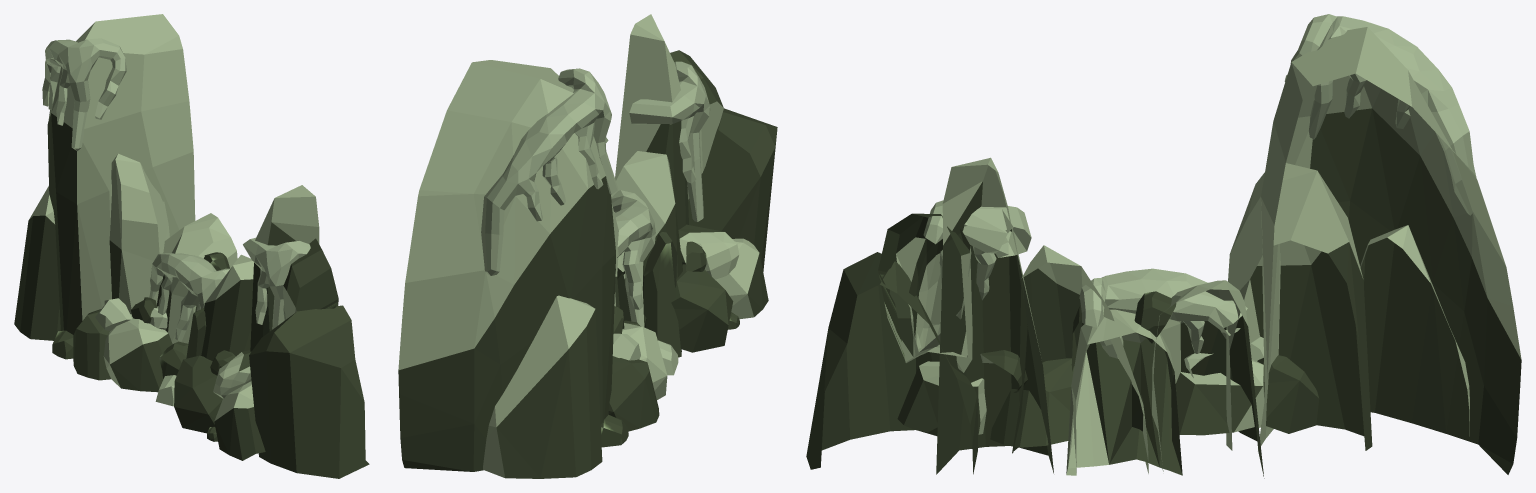
The model's file is EA_Swamp_Wall_02alt.glb.
The picture shows the model from 3 angles, left to right: view 1: azimuth 30°, elevation 25°; view 2: azimuth 150°, elevation 25°; view 3: azimuth 270°, elevation 25°; orthographic projection. The views are drawn at different scales.
Parts seen in each view (by area): view 1: EA_Swamp_Wall_02alt; view 2: EA_Swamp_Wall_02alt; view 3: EA_Swamp_Wall_02alt.
Part boxes in pixels (x1,y1,x2,y2): EA_Swamp_Wall_02alt: (14, 14, 369, 478); EA_Swamp_Wall_02alt: (398, 14, 777, 478); EA_Swamp_Wall_02alt: (806, 14, 1521, 478).
Bounding box in the file's own units: 4.52 × 10.18 × 16.03.
1 material, 1 textured.
